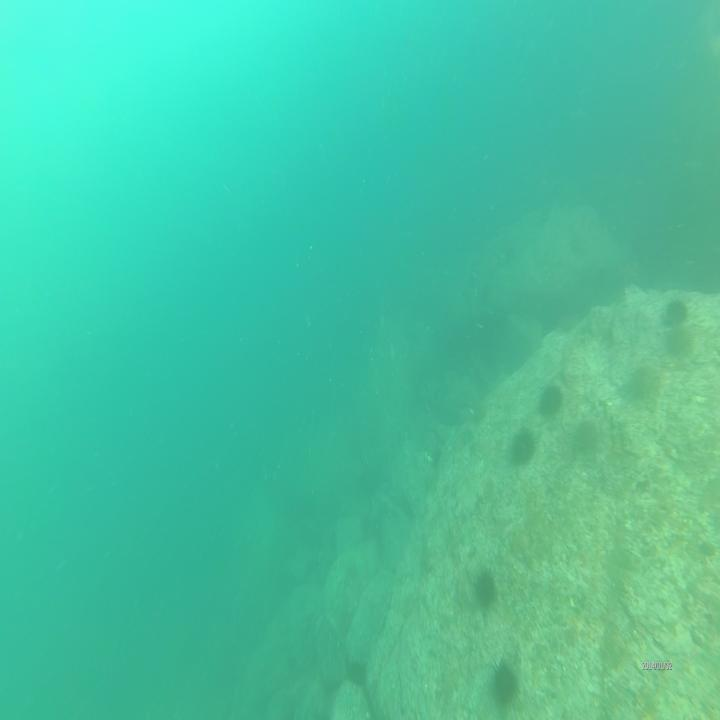echinus: (488, 660, 519, 704), (506, 427, 536, 463), (478, 562, 500, 606), (660, 294, 690, 323), (541, 376, 558, 413)
